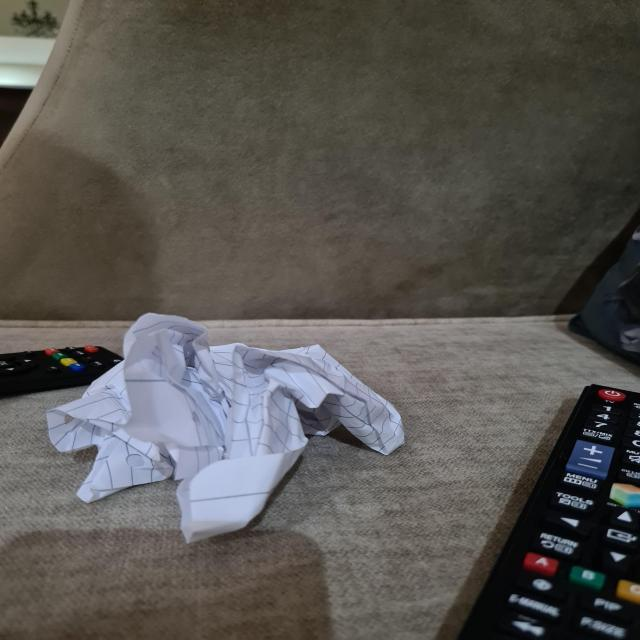trash: (66, 318, 422, 534)
